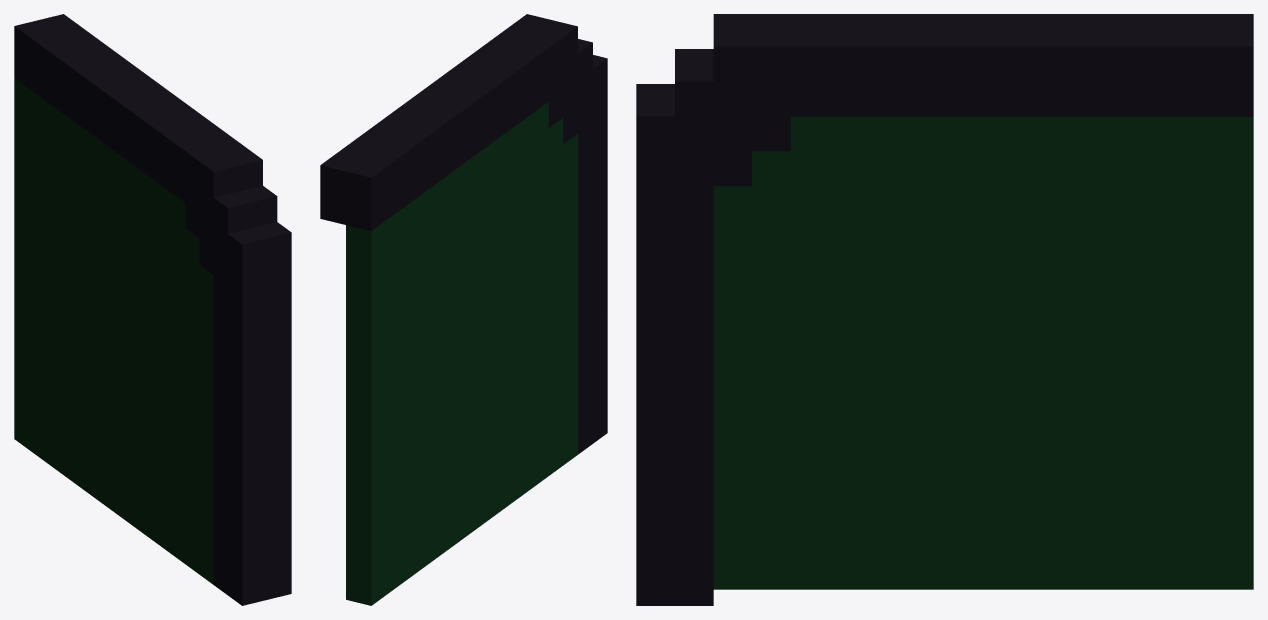
File: DisplayAngle.obj
3 renders of one model, left to right at view 1: azimuth 30°, elevation 25°; view 2: azimuth 150°, elevation 25°; view 3: azimuth 270°, elevation 25°, orthographic. The views are drawn at different scales.
Bounding box in the file's own units: 0.2 × 1.6 × 1.6.
Materials: 1 (1 with a texture image).
